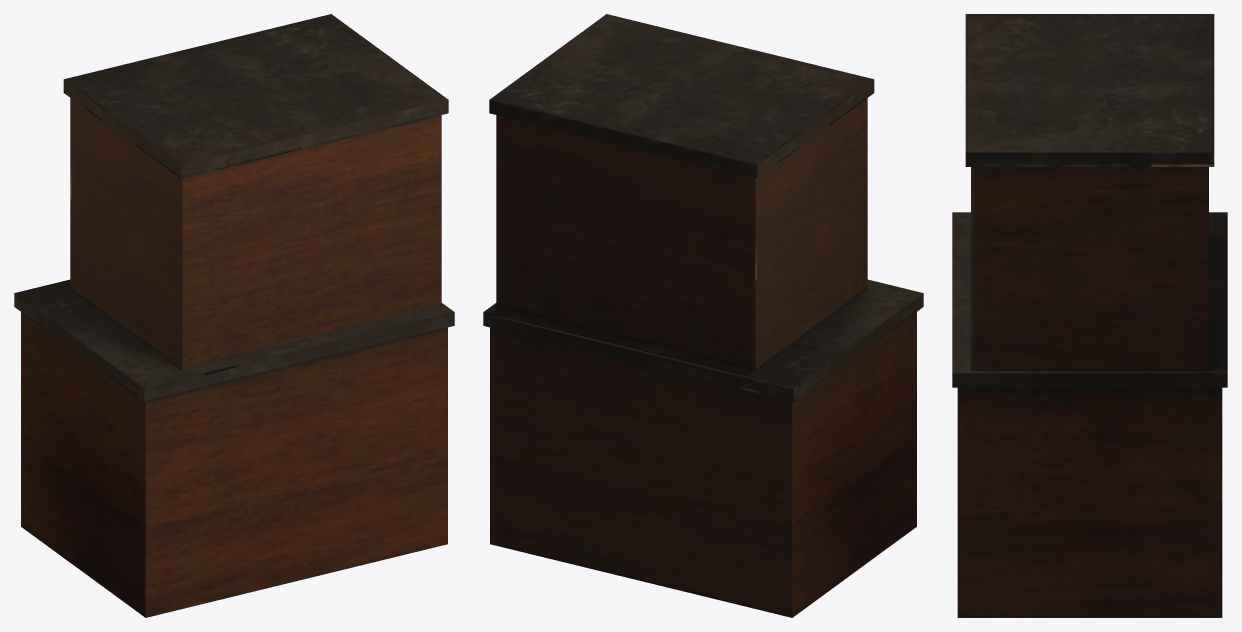
The model's file is cantina_prop_cargo_A_stacked.glb.
3 renders of one model, left to right at view 1: azimuth 30°, elevation 25°; view 2: azimuth 150°, elevation 25°; view 3: azimuth 270°, elevation 25°, orthographic. The views are drawn at different scales.
Parts seen in each view (by area): view 1: cantina_prop_cargo_A_stacked; view 2: cantina_prop_cargo_A_stacked; view 3: cantina_prop_cargo_A_stacked.
Part boxes in pixels (x1,y1,x2,y2): cantina_prop_cargo_A_stacked: (14, 14, 454, 617); cantina_prop_cargo_A_stacked: (483, 14, 923, 617); cantina_prop_cargo_A_stacked: (952, 14, 1227, 617).
Size of the model in its own units: 0.72 by 0.975 by 0.52.
Materials: 1 (1 with a texture image).
